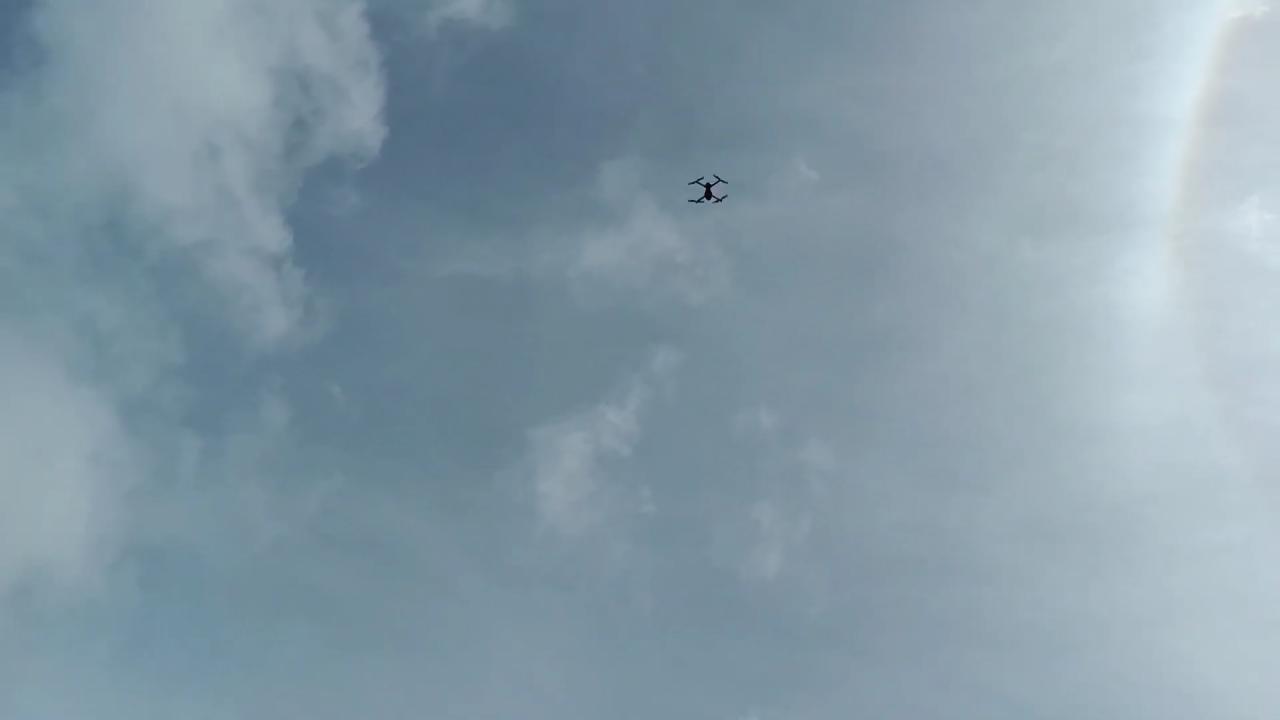Drone: (681, 168, 735, 214)
